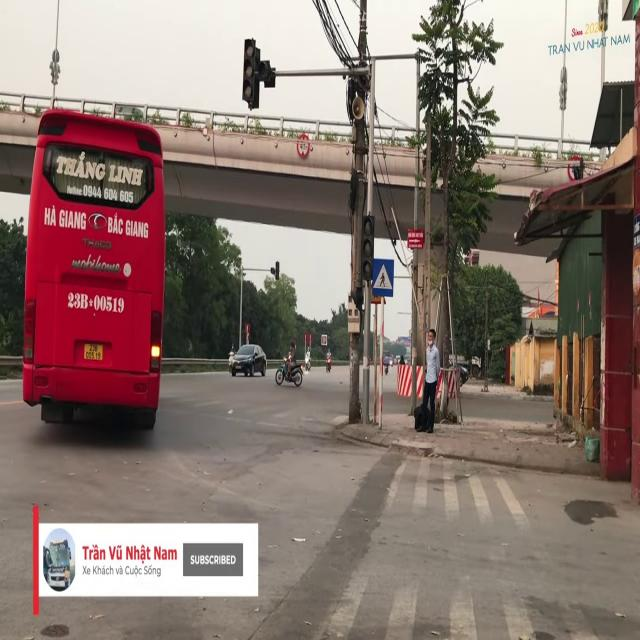bien_vang: (83, 341, 104, 362)
